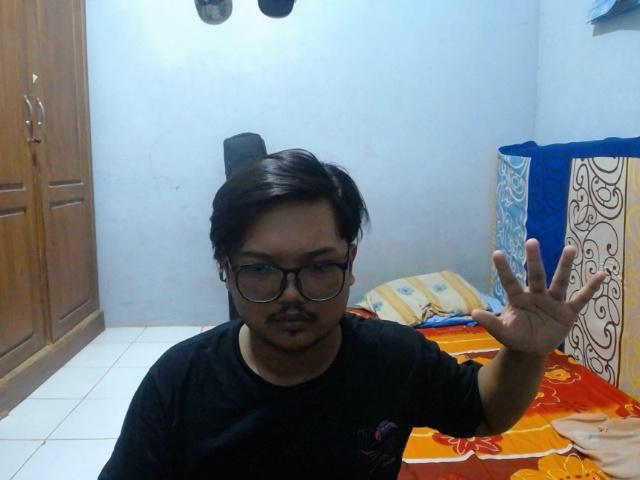Release: (463, 237, 612, 370)
